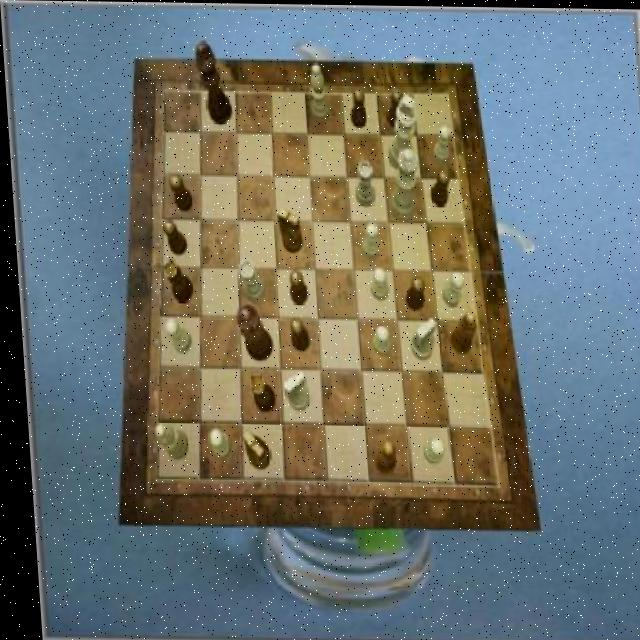bishop: (442, 310, 472, 353), (367, 439, 391, 474)
black-bishop: (194, 41, 231, 125)
black-king: (275, 206, 301, 252), (237, 430, 266, 470)
black-knight: (166, 174, 191, 212), (159, 220, 184, 255), (426, 168, 448, 206), (400, 275, 422, 310), (384, 89, 403, 129), (347, 87, 365, 127), (286, 269, 305, 304), (285, 318, 304, 351)
black-pawn: (230, 304, 268, 360)
black-queen: (160, 259, 190, 303), (243, 373, 269, 412)
black-rook: (307, 64, 329, 124), (149, 423, 184, 459)
white-bishop: (383, 94, 418, 170)
white-king: (404, 317, 433, 360), (278, 371, 305, 411)
white-knight: (160, 317, 187, 352), (437, 269, 462, 306), (429, 125, 450, 165), (201, 427, 226, 458), (359, 221, 378, 259), (365, 266, 385, 300), (415, 437, 439, 463), (367, 324, 387, 355)
white-pawn: (383, 147, 419, 220)
white-queen: (235, 259, 262, 302), (351, 159, 374, 205)
